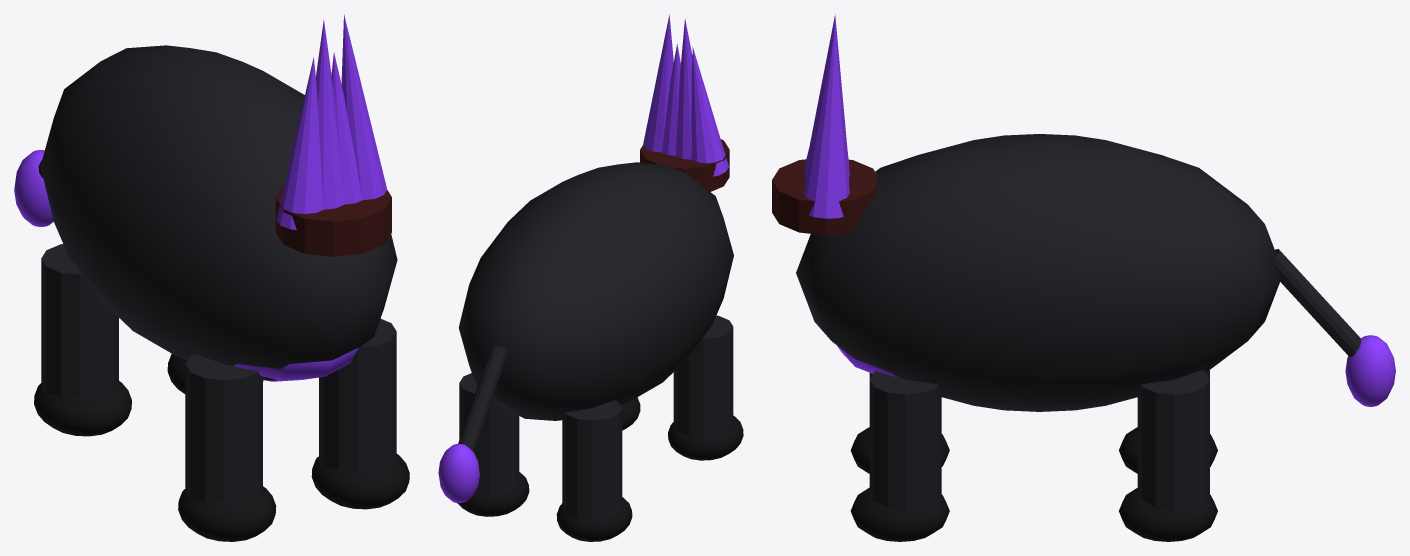
3 renders of one model, left to right at view 1: azimuth 30°, elevation 25°; view 2: azimuth 150°, elevation 25°; view 3: azimuth 270°, elevation 25°, orthographic. The views are drawn at different scales.
Visible parts, largest first — view 1: Headless Horse; view 2: Headless Horse; view 3: Headless Horse.
Boxes of the visible parts, x1=… form: Headless Horse: x1=14, y1=14, x2=409, y2=541; Headless Horse: x1=438, y1=14, x2=743, y2=541; Headless Horse: x1=772, y1=14, x2=1395, y2=541.
Bounding box in the file's own units: 1.44 × 2.99 × 3.45.
1 material, 1 textured.
